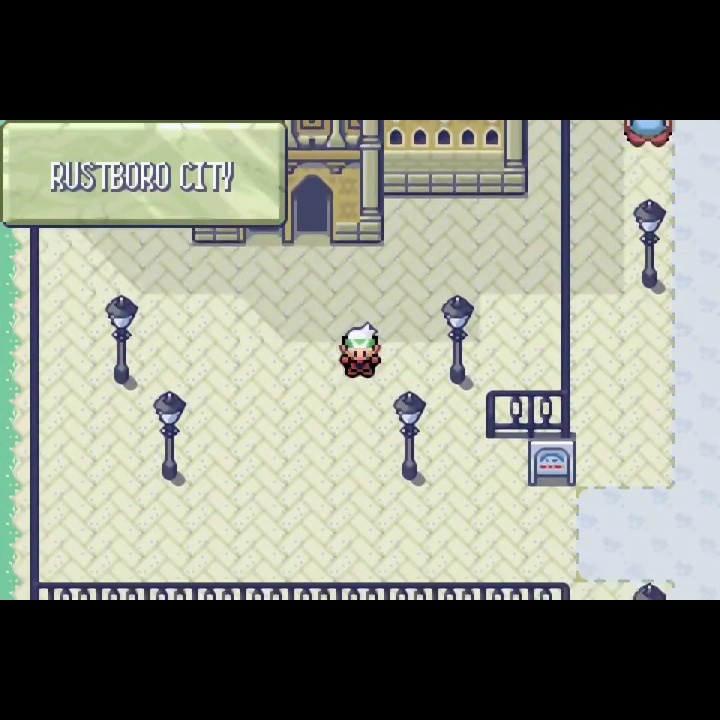house: (288, 117, 531, 245)
npc: (337, 320, 384, 382)
